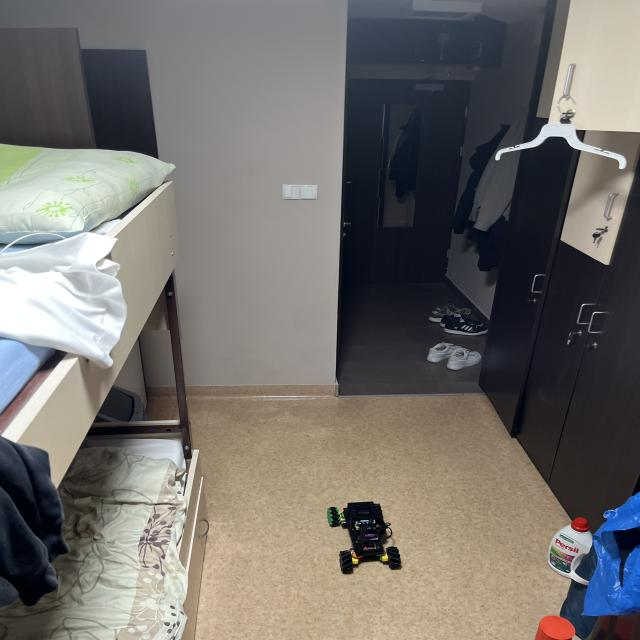robot: (327, 501, 401, 574)
